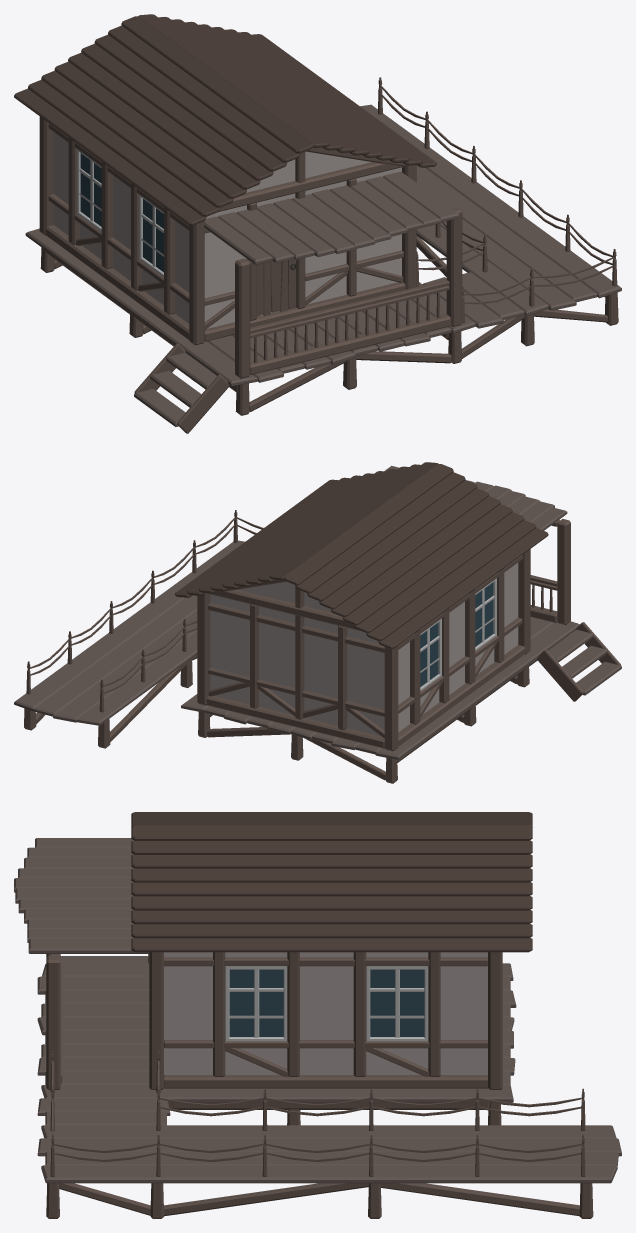
The model's file is farmstractures_12.glb.
3 renders of one model, top to bottom at view 1: azimuth 30°, elevation 25°; view 2: azimuth 150°, elevation 25°; view 3: azimuth 270°, elevation 25°, orthographic. The views are drawn at different scales.
Parts seen in each view (by area): view 1: farmstractures_12; view 2: farmstractures_12; view 3: farmstractures_12.
Part boxes in pixels (x1,y1,x2,y2): farmstractures_12: (14,14,621,433); farmstractures_12: (14,462,621,783); farmstractures_12: (14,812,621,1218).
Size of the model in its own units: 8.59 by 4.16 by 9.04.
1 material, 1 textured.
